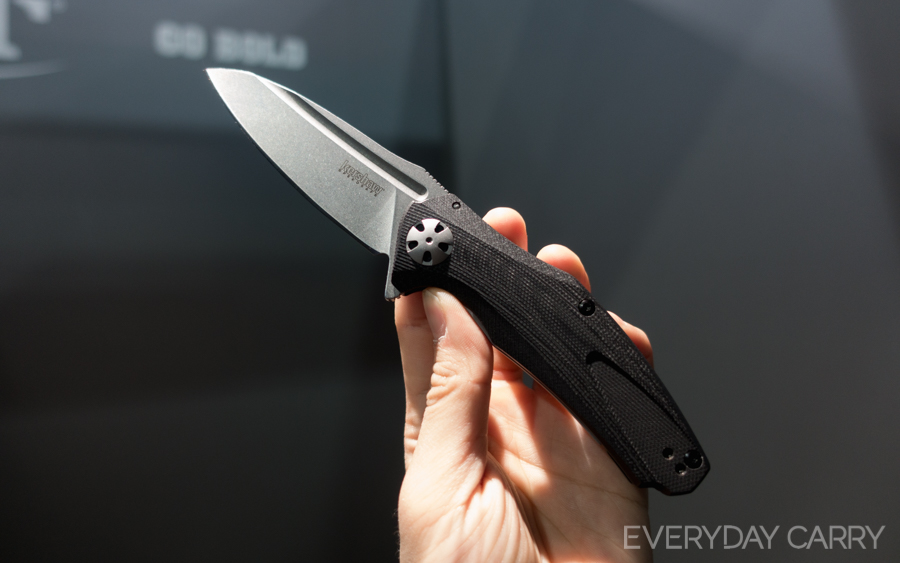knife: (195, 57, 723, 507)
